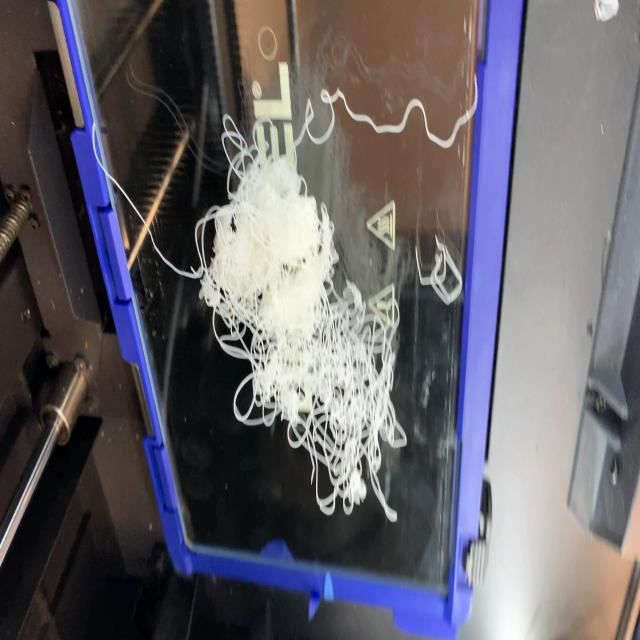spaghetti: (191, 113, 410, 524)
